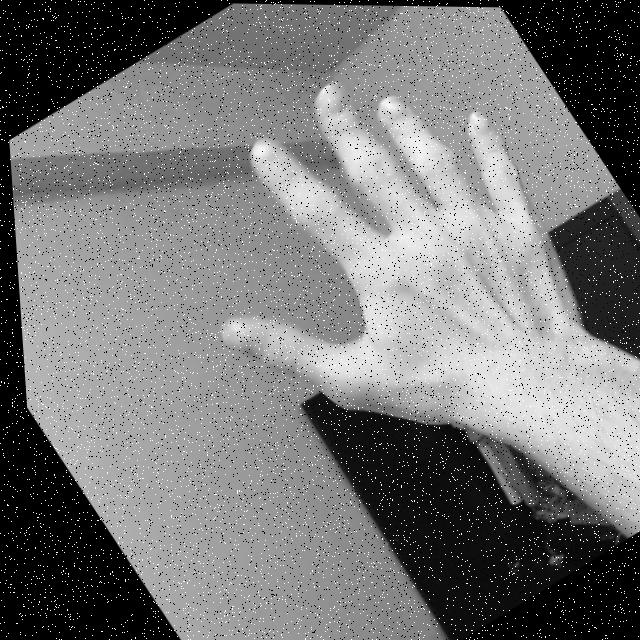hand: (118, 17, 621, 492)
